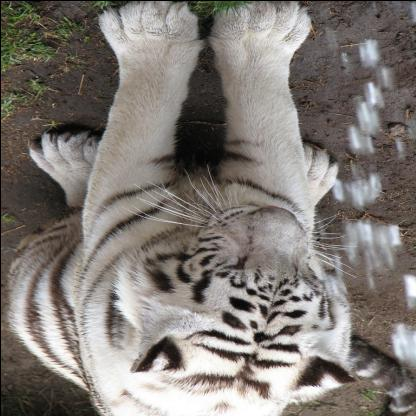tiger: (113, 178, 353, 388)
